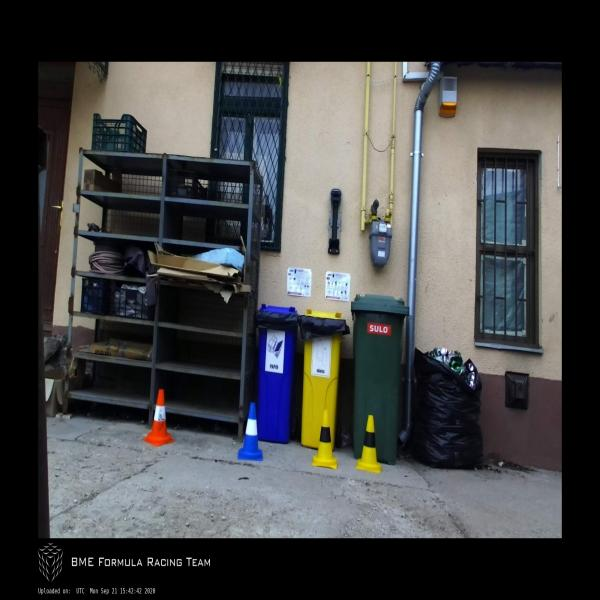blue_cone: (238, 402, 262, 461)
orange_cone: (144, 390, 174, 445)
yellow_cone: (312, 410, 337, 468), (357, 416, 381, 473)
